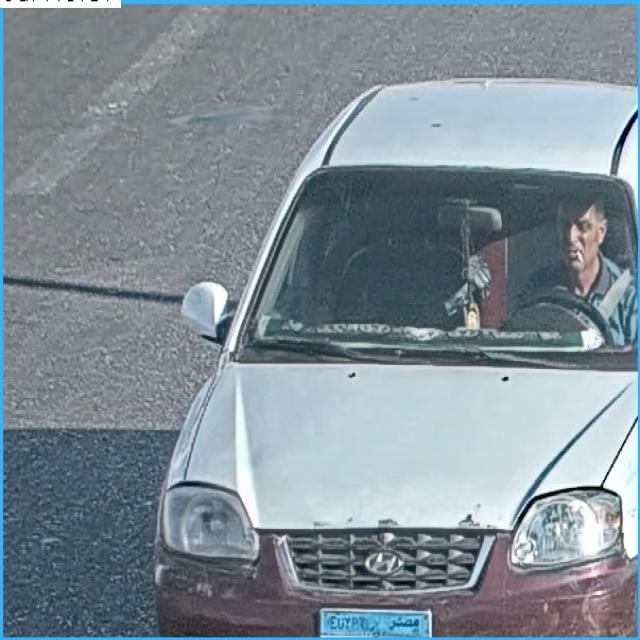windshield: (239, 169, 637, 356)
